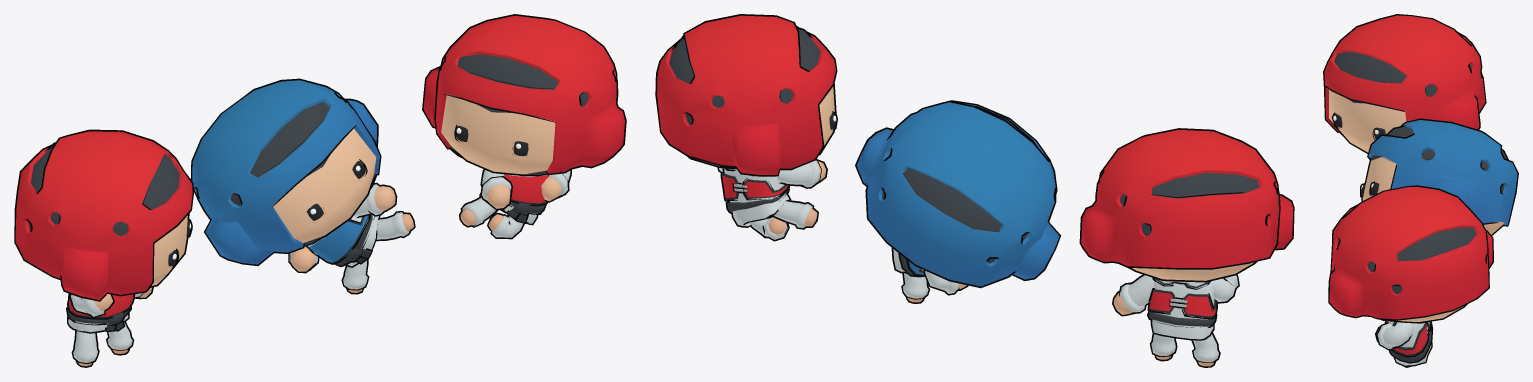
The picture shows the model from 3 angles, left to right: view 1: azimuth 30°, elevation 25°; view 2: azimuth 150°, elevation 25°; view 3: azimuth 270°, elevation 25°; orthographic projection. The views are drawn at different scales.
Parts seen in each view (by area): view 1: taekwondo; view 2: taekwondo; view 3: taekwondo.
Boxes of the visible parts, x1=… form: taekwondo: x1=14, y1=14, x2=626, y2=367; taekwondo: x1=655, y1=14, x2=1294, y2=367; taekwondo: x1=1323, y1=14, x2=1518, y2=367.
Bounding box in the file's own units: 3.25 × 1.2 × 1.08.
Materials: 2 (1 with a texture image).
